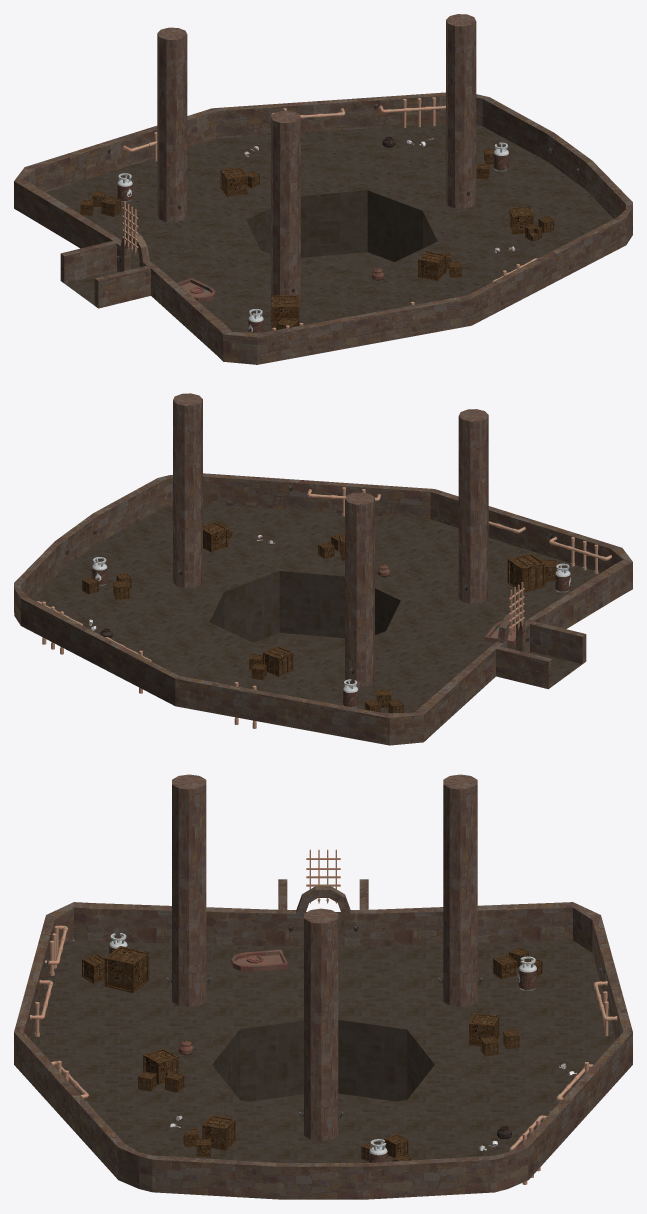
File: room_base_O_pipes_40x40.glb
3 views of the same model, one above another, from view 1: azimuth 30°, elevation 25°; view 2: azimuth 150°, elevation 25°; view 3: azimuth 270°, elevation 25° (orthographic). The views are drawn at different scales.
Visible parts, largest first — view 1: floor, wall, wall.002, Cylinder.001, Cylinder.042, Cylinder.043, gate.001; view 2: floor, wall, wall.002, Cylinder.043, Cylinder.042, Cylinder.001, Cube.016_cell.003, gate.001; view 3: floor, wall, wall.002, Cylinder.043, Cylinder.001, Cylinder.042, Cube.016_cell.002, gate.001.
Part boxes in pixels (left/top/right/bottom): floor: left=46, top=123, right=613, bottom=332; wall: left=14, top=92, right=632, bottom=364; wall.002: left=246, top=190, right=437, bottom=270; Cylinder.001: left=157, top=27, right=187, bottom=222; Cylinder.042: left=446, top=14, right=476, bottom=208; Cylinder.043: left=271, top=111, right=300, bottom=301; gate.001: left=122, top=201, right=138, bottom=254; floor: left=33, top=504, right=600, bottom=713; wall: left=14, top=473, right=632, bottom=745; wall.002: left=209, top=571, right=400, bottom=651; Cylinder.043: left=458, top=409, right=488, bottom=603; Cylinder.042: left=173, top=393, right=202, bottom=587; Cylinder.001: left=345, top=492, right=374, bottom=686; Cube.016_cell.003: left=515, top=560, right=540, bottom=590; gate.001: left=509, top=582, right=524, bottom=635; floor: left=30, top=912, right=616, bottom=1162; wall: left=14, top=879, right=632, bottom=1199; wall.002: left=212, top=1020, right=434, bottom=1109; Cylinder.043: left=172, top=774, right=206, bottom=1006; Cylinder.001: left=443, top=774, right=477, bottom=1006; Cylinder.042: left=304, top=908, right=338, bottom=1140; Cube.016_cell.002: left=104, top=968, right=149, bottom=992; gate.001: left=306, top=849, right=340, bottom=903.
Size of the model in its own units: 37.65 by 17.77 by 34.26.
Materials: 12 (12 with a texture image).
